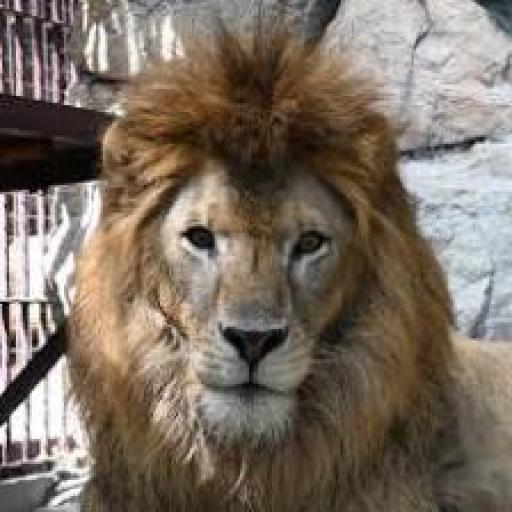lion: (66, 18, 485, 509)
